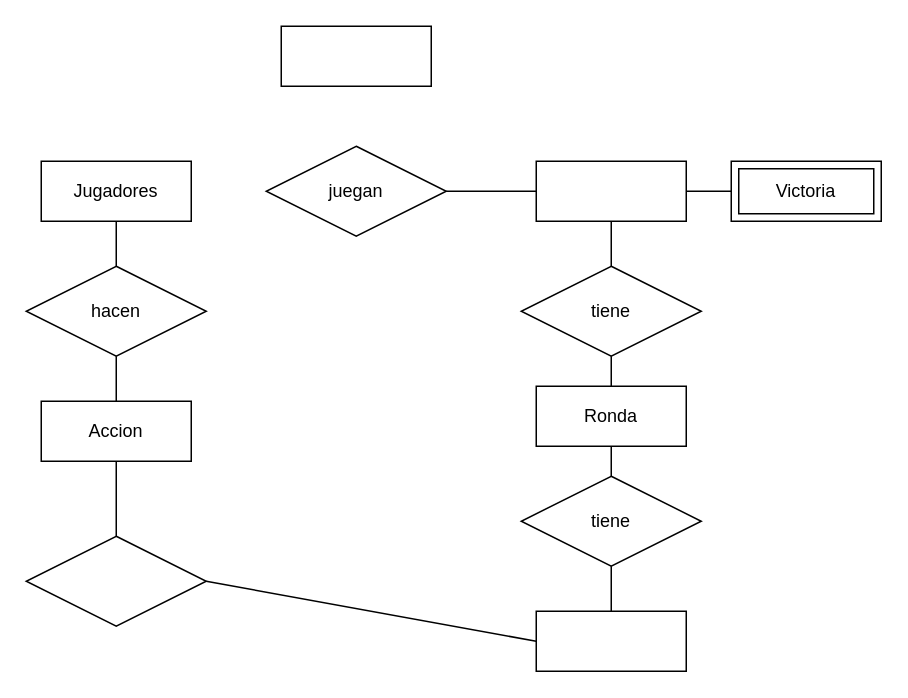
Image size: 908x698. Some labels were removed from this diagram. The centre of each missing label's shape, as x and y in pixels:
"Mazo" belongs at [355,55].
"Partida" belongs at [610,190].
"se realiza en" belongs at [115,580].
"Turnos" belongs at [610,640].
